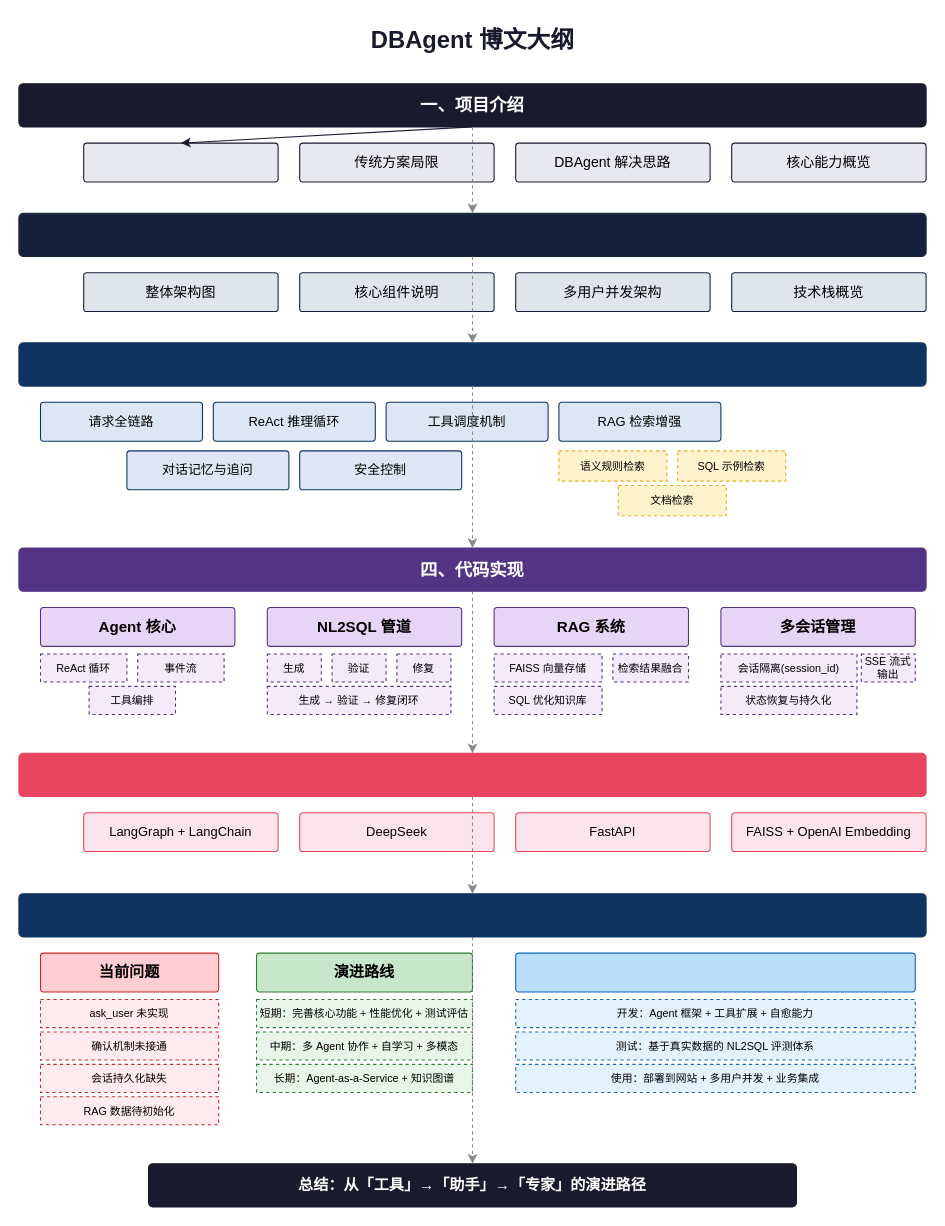
Some shapes in this 945 by 1226 pixel diagram are drawn without their labels. The centre of each missing label's shape, as x and y in pixels:
三、工作机制: [472,364]
二、系统架构: [472,234]
五、技术选型: [472,774]
六、改进与展望: [472,915]
背景与问题: [180,162]
角色维度: [715,972]
